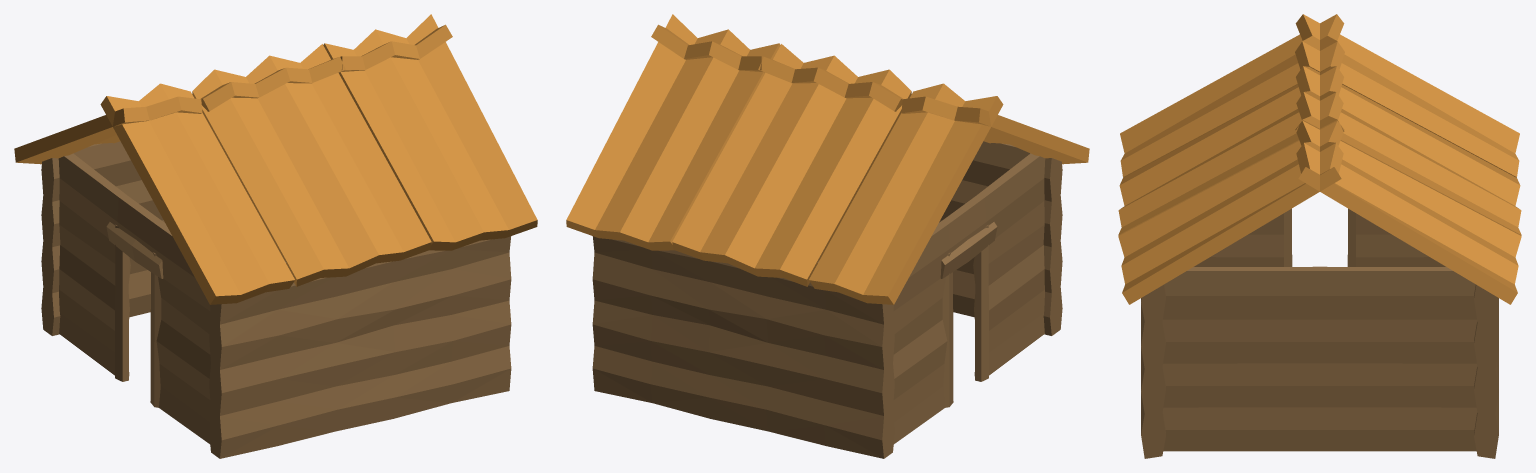
File: bungalov_02.fbx
3 renders of one model, left to right at view 1: azimuth 30°, elevation 25°; view 2: azimuth 150°, elevation 25°; view 3: azimuth 270°, elevation 25°, orthographic.
Visible parts, largest first — view 1: bungalov_02-2, bungalov_02; view 2: bungalov_02-2, bungalov_02; view 3: bungalov_02, bungalov_02-2.
Part boxes in pixels (x1=…): bungalov_02-2: x1=14, y1=14, x2=537, y2=304; bungalov_02: x1=41, y1=141, x2=511, y2=458; bungalov_02-2: x1=566, y1=14, x2=1089, y2=304; bungalov_02: x1=592, y1=141, x2=1062, y2=458; bungalov_02: x1=1141, y1=208, x2=1498, y2=458; bungalov_02-2: x1=1118, y1=14, x2=1521, y2=304.
Size of the model in its own units: 280 by 246 by 299.
